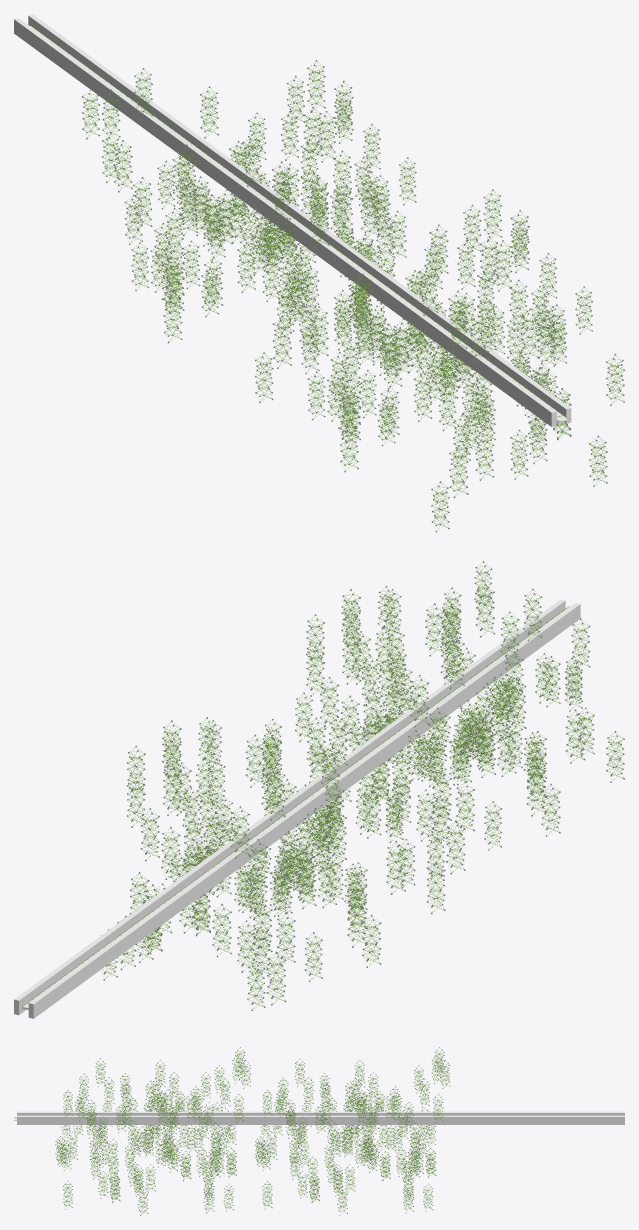
Rendered from MatrixEnviornment.glb.
3 views of the same model, one above another, from view 1: azimuth 30°, elevation 25°; view 2: azimuth 150°, elevation 25°; view 3: azimuth 270°, elevation 25° (orthographic). The views are drawn at different scales.
Visible parts, largest first — view 1: WallL-col, WallR-col, Floor; view 2: WallL-col, WallR-col, Floor, Floor-Wireframe; view 3: WallR-col, WallL-col.
Part boxes in pixels (x1,y1,x2,y2): WallL-col: (14,18,556,426); WallR-col: (28,14,571,423); Floor: (30,26,568,422); WallL-col: (28,603,580,1018); WallR-col: (14,599,565,1015); Floor: (22,607,569,1009); Floor-Wireframe: (22,606,569,1008); WallR-col: (17,1115,624,1124); WallL-col: (17,1111,624,1115).
Size of the model in its own units: 45.37 by 44.92 by 201.
